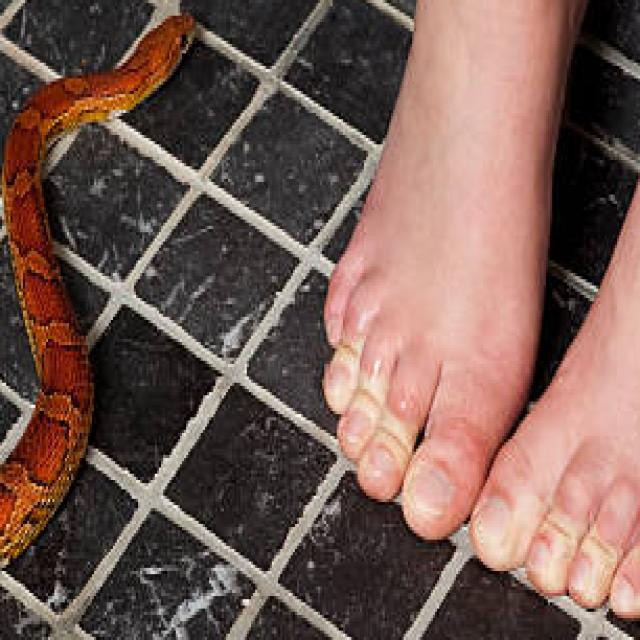Snake: (0, 6, 197, 640)
